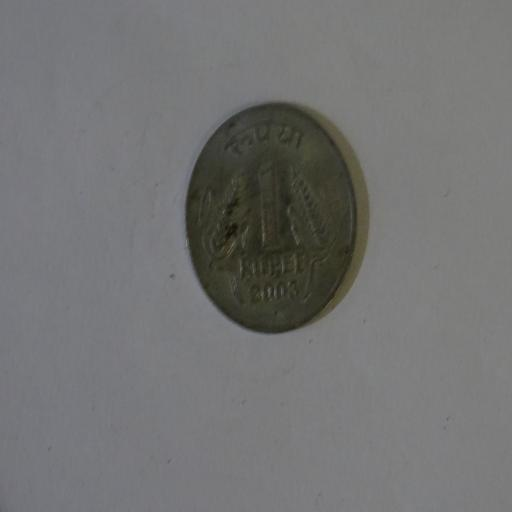rupee1: (180, 102, 362, 336)
